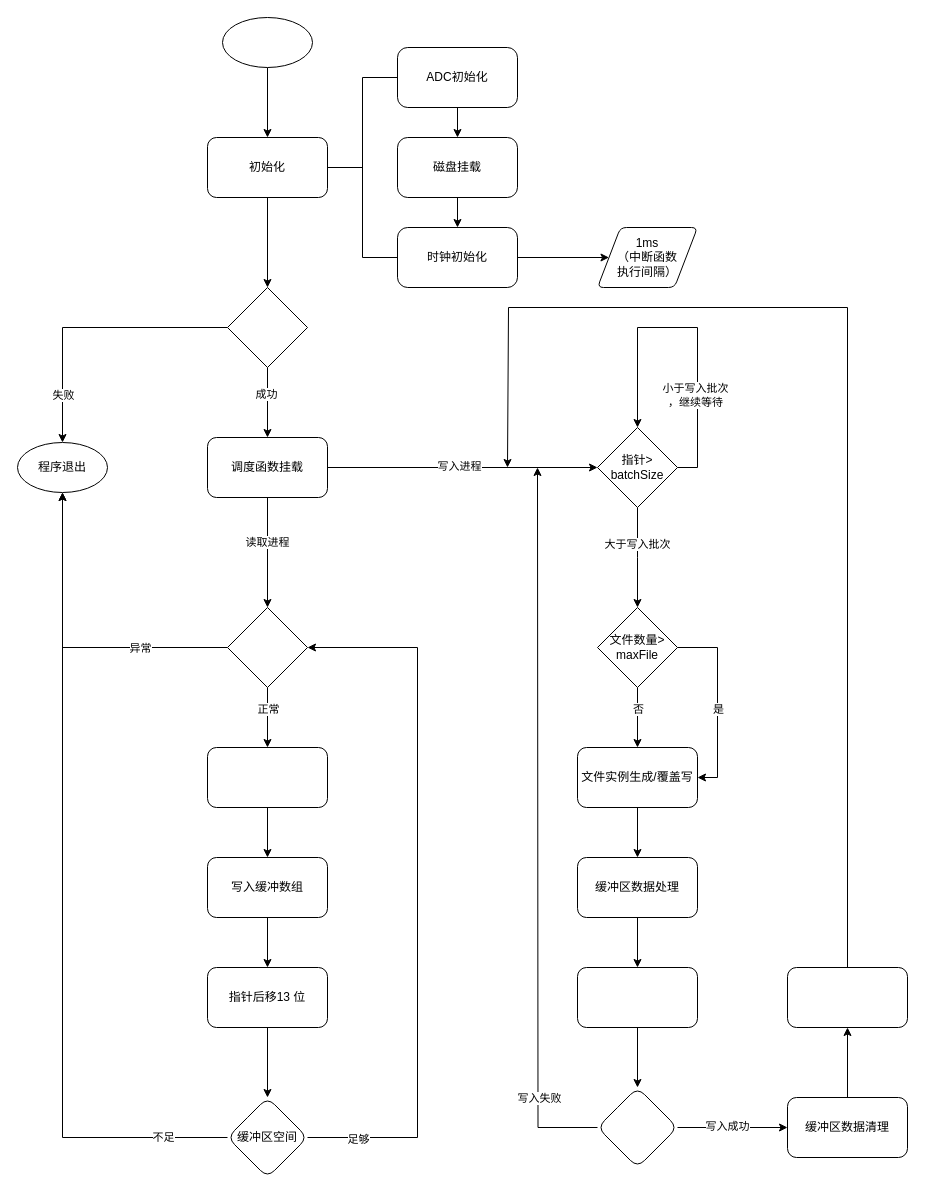
Image size: 925x1195. Some labels were removed from this diagram. Each missing label, with the centre of its shape:
"ADC 数据处理" belongs at point 267,777.
"ADC 正常" belongs at point 267,647.
"写入 CSV 文件" belongs at point 637,997.
"初始化状态" belongs at point 267,327.
"指针归 0" belongs at point 847,997.
"文件状态" belongs at point 637,1127.
"程序启动" belongs at point 267,42.
